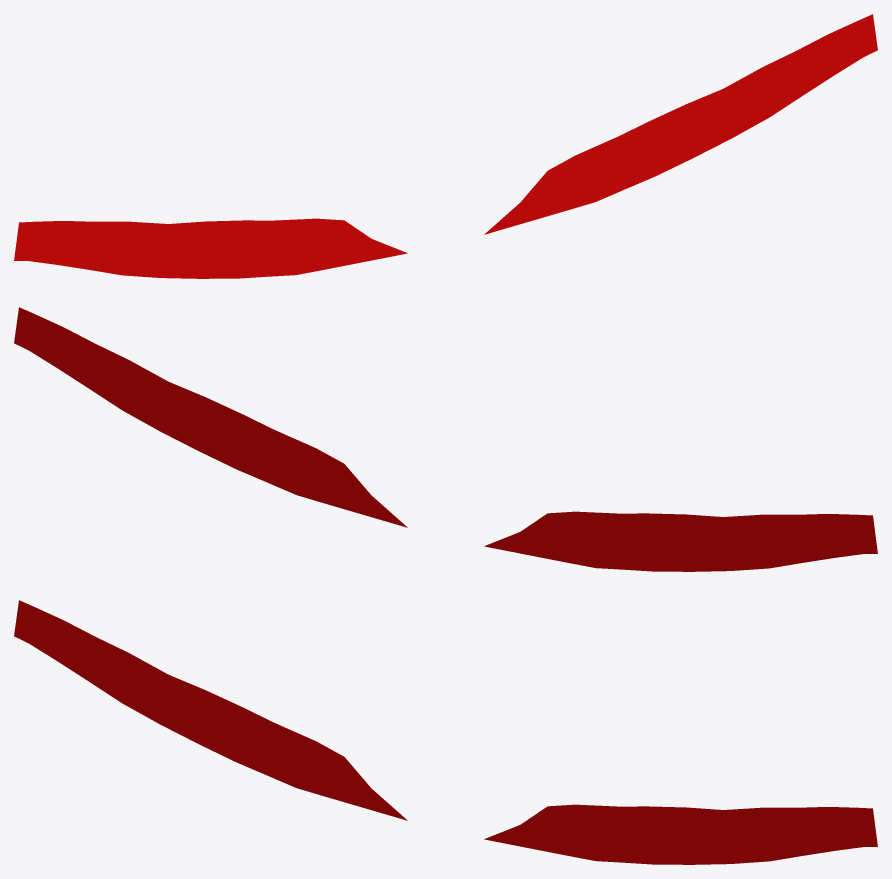
The model's file is frame51.fbx.
The picture shows the model from 3 angles, top to bottom: view 1: azimuth 30°, elevation 25°; view 2: azimuth 150°, elevation 25°; view 3: azimuth 330°, elevation 25°; orthographic projection.
Visible parts, largest first — view 1: MaterialLayer; view 2: MaterialLayer; view 3: MaterialLayer.
Boxes of the visible parts, left/top/right/bottom form: MaterialLayer: left=14, top=14, right=877, bottom=278; MaterialLayer: left=14, top=307, right=877, bottom=571; MaterialLayer: left=14, top=600, right=877, bottom=864.
Size of the model in its own units: 1222 by 170 by 0.
